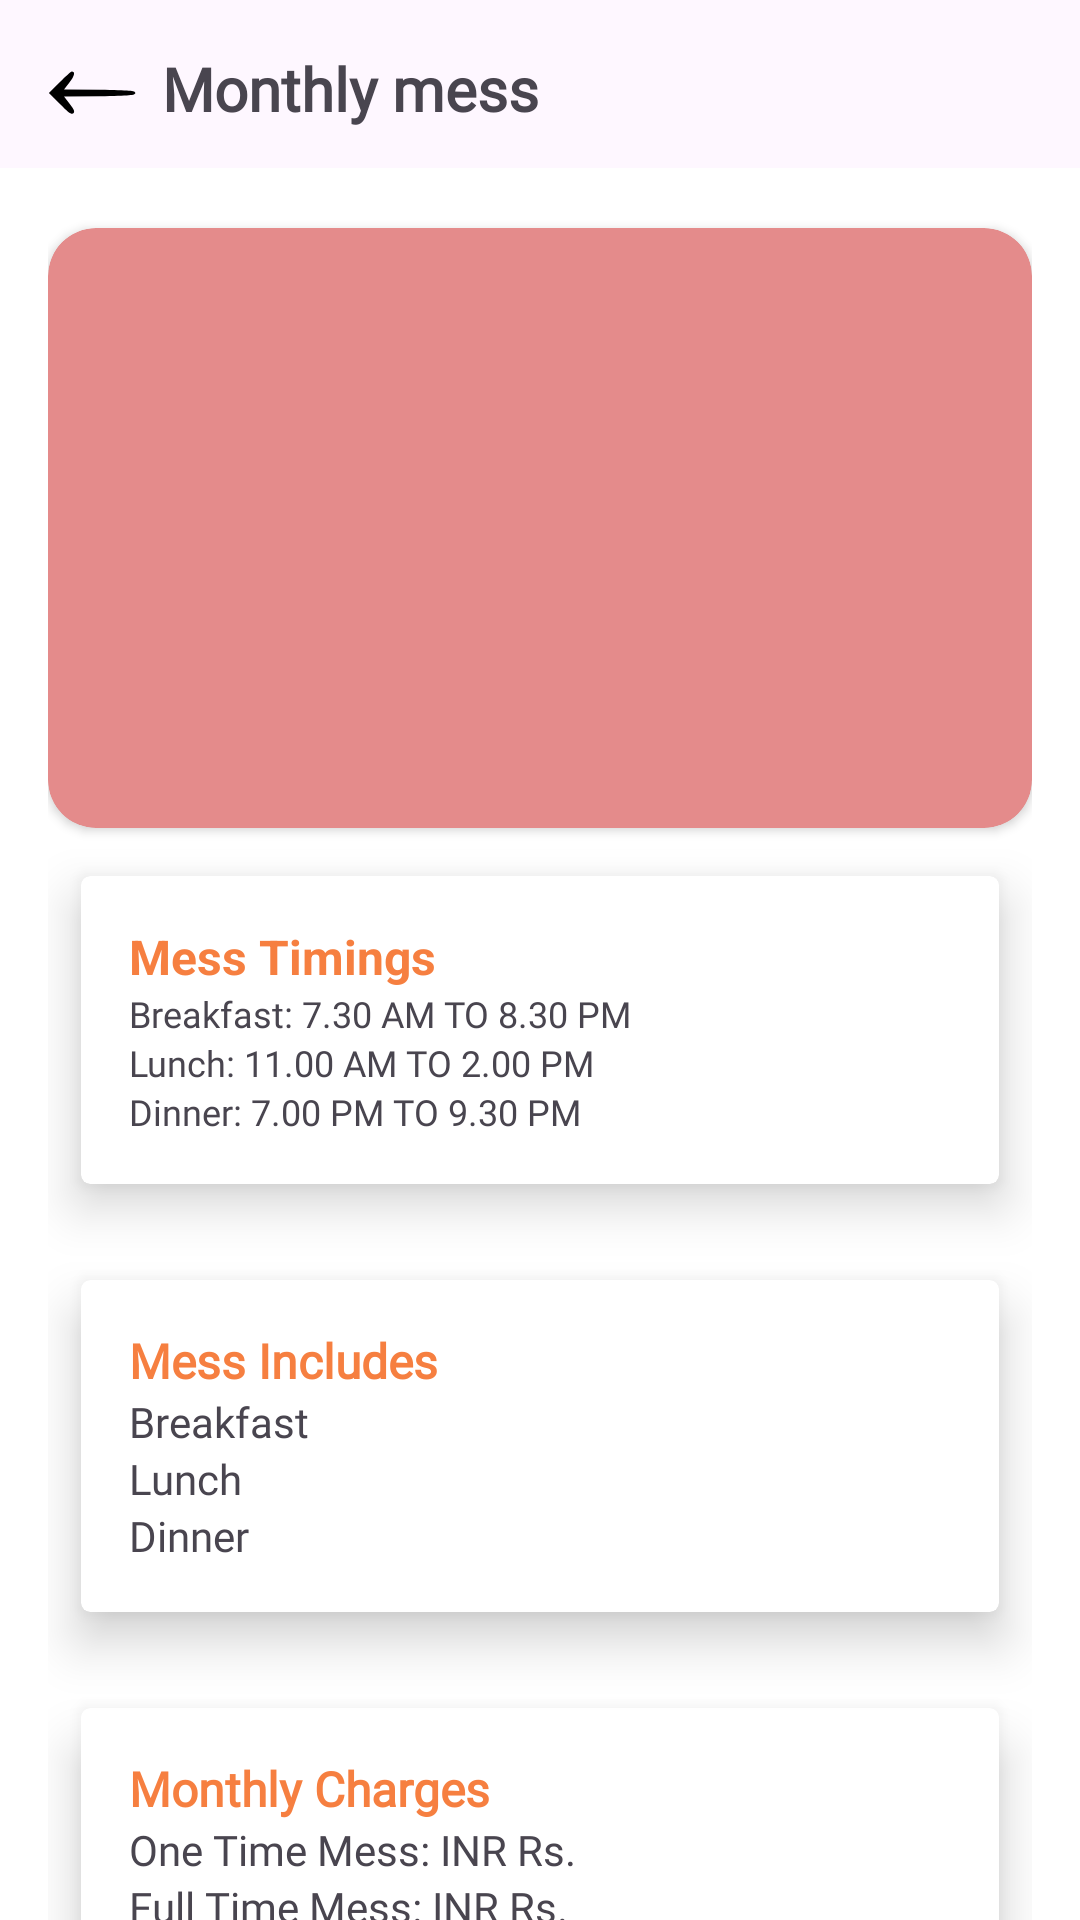

Screen size 1080px×1920px. Icon name, then its center in pixels as [x,y]:
backarrow: [92,92]
